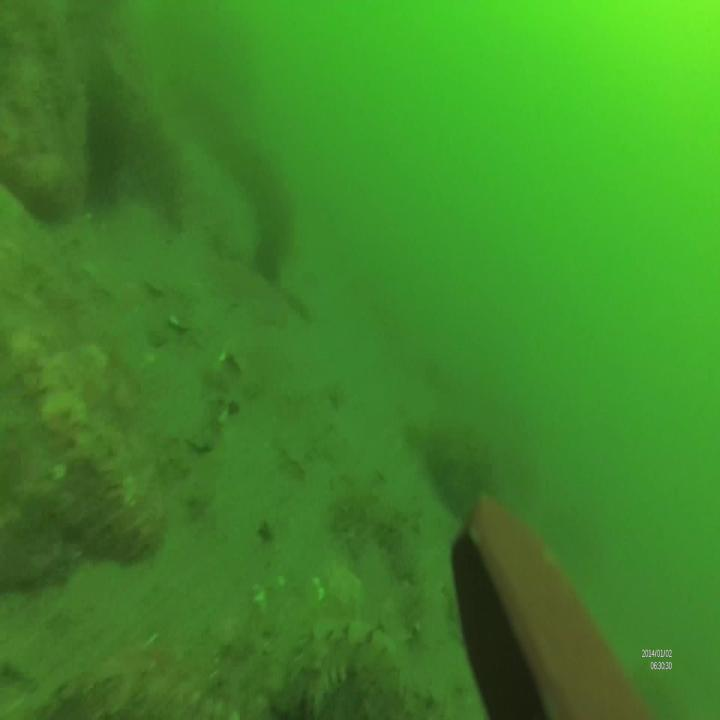holothurian: (278, 627, 398, 699)
